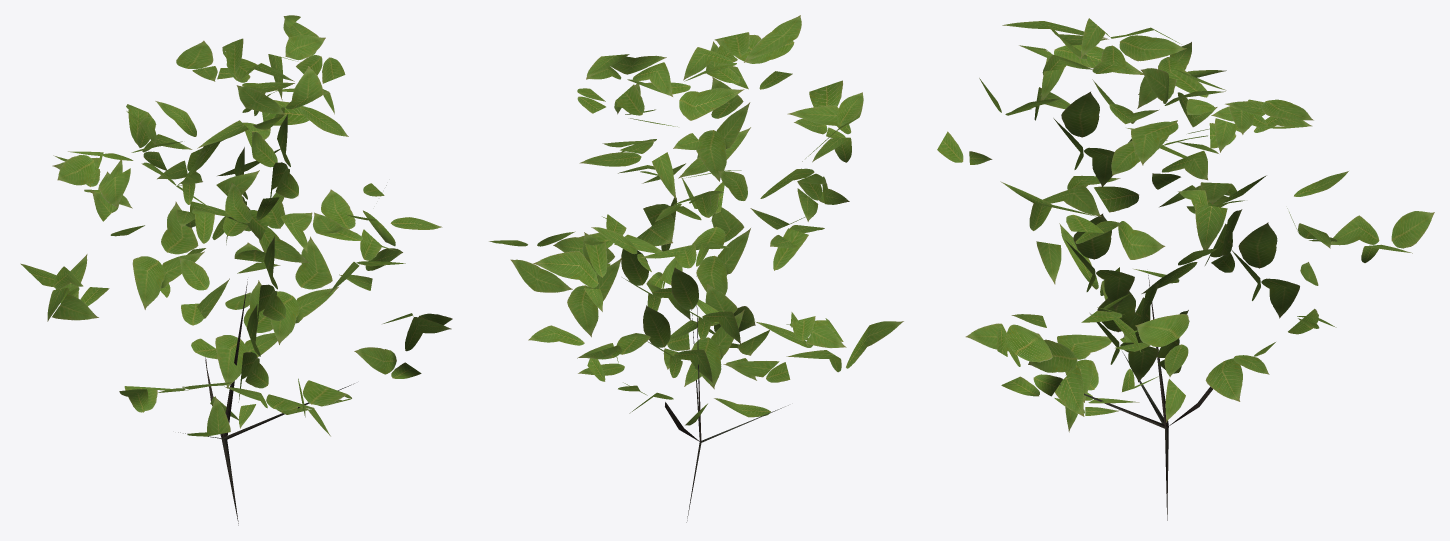
Rendered from blueberryBush_lod2.fbx.
3 views of the same model, side by side, from view 1: azimuth 30°, elevation 25°; view 2: azimuth 150°, elevation 25°; view 3: azimuth 270°, elevation 25° (orthographic). The views are drawn at different scales.
Visible parts, largest first — view 1: blueberryBush_lod2; view 2: blueberryBush_lod2; view 3: blueberryBush_lod2.
Boxes of the visible parts, x1,y1,x2,y2 form: blueberryBush_lod2: [20, 15, 452, 525]; blueberryBush_lod2: [489, 15, 903, 522]; blueberryBush_lod2: [937, 18, 1434, 520].
Bounding box in the file's own units: 125 × 154 × 140.
